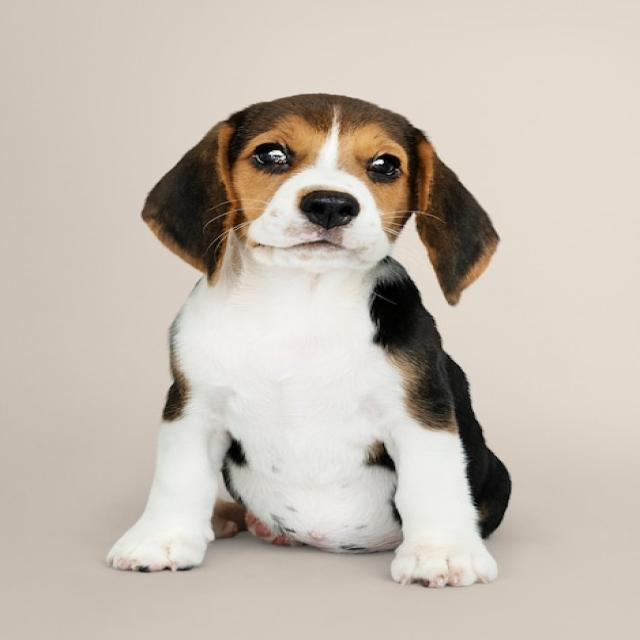Dog: (109, 93, 512, 588)
